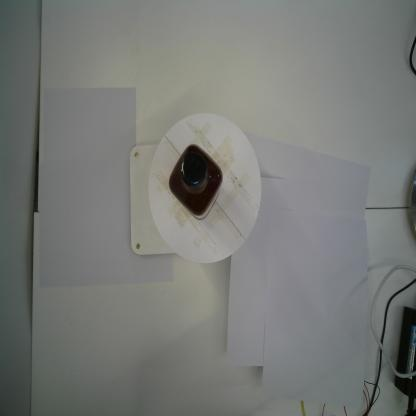Seasoner: (166, 141, 224, 222)
